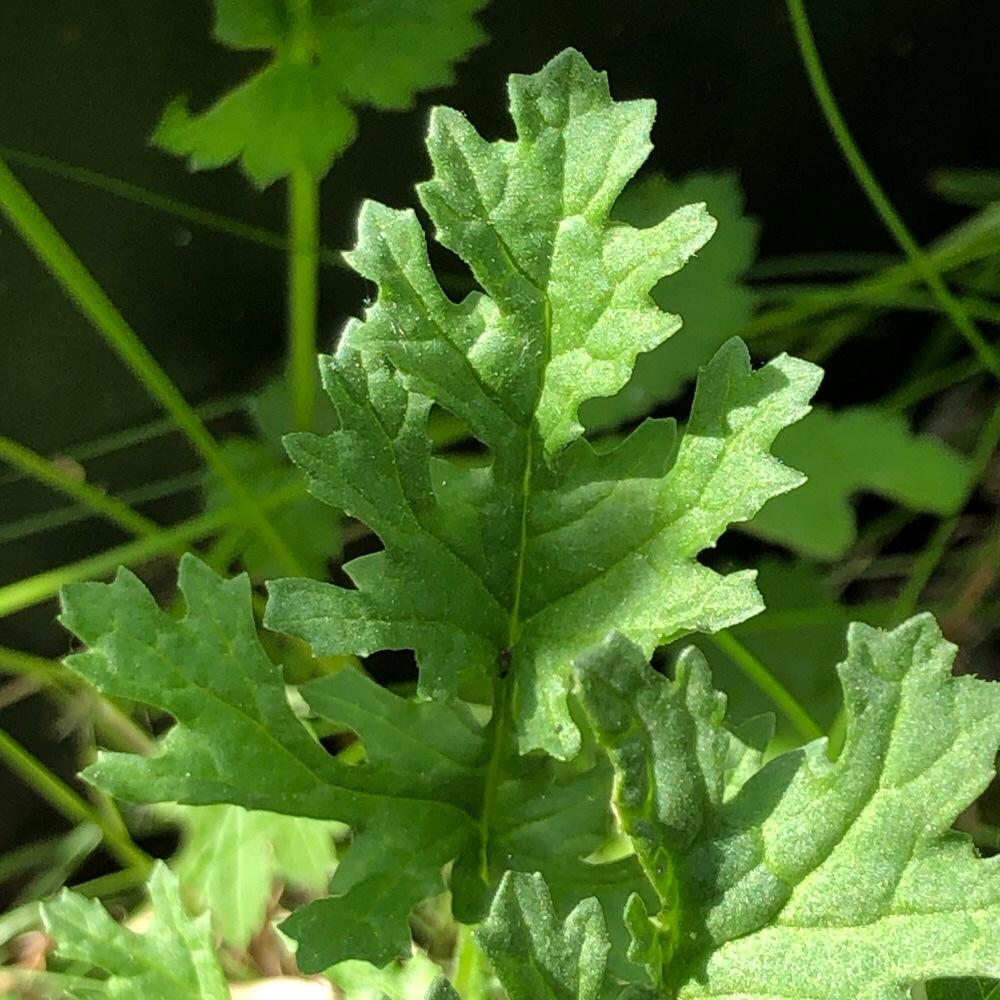Jacobaea vulgaris: (51, 27, 1000, 1000)
